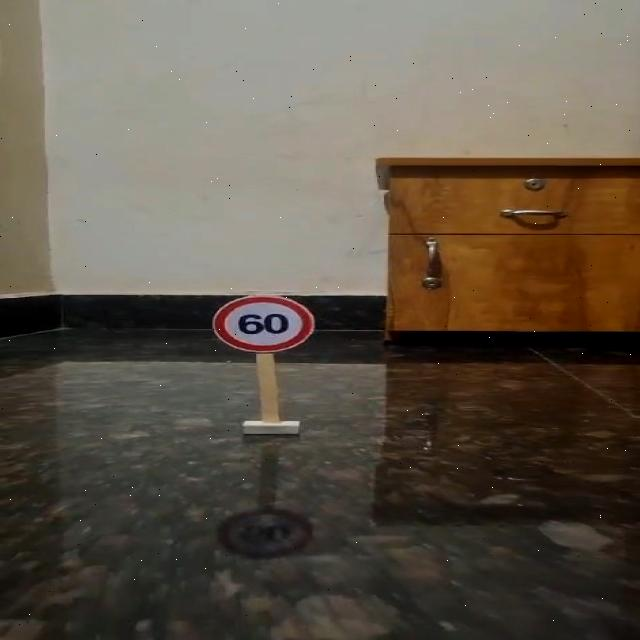Speed60: (200, 289, 334, 363)
